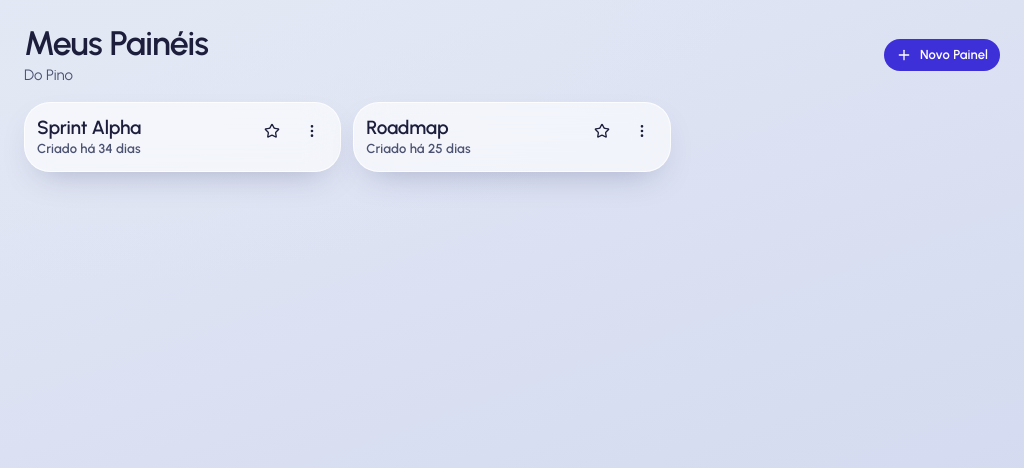
it: PaineisPage › convidado (não é dono do workspace) não vê "Excluir" — só o dono exclui painéis
Click the button named "Ações de Sprint Alpha" next to "Sprint Alpha" at (312, 131), box [296,115,328,147]
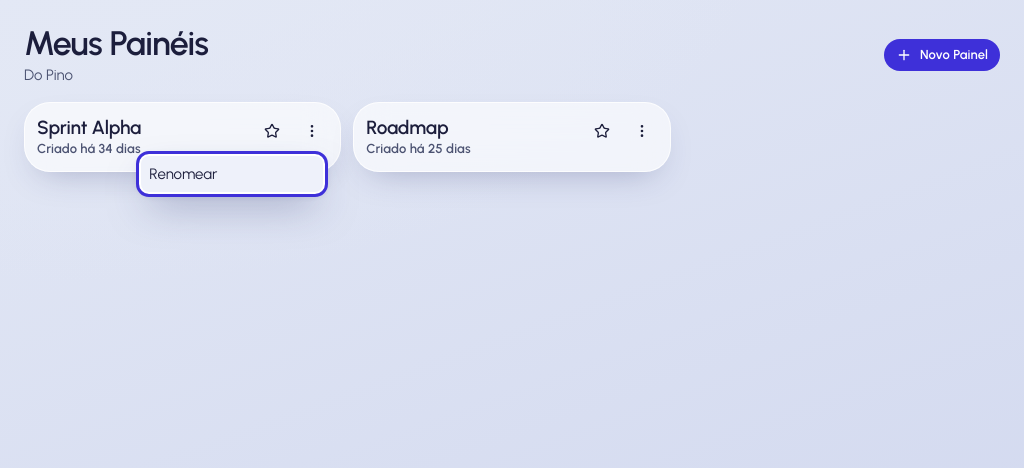
Check: the menu item "Renomear" is shown, box [141,156,323,192]
